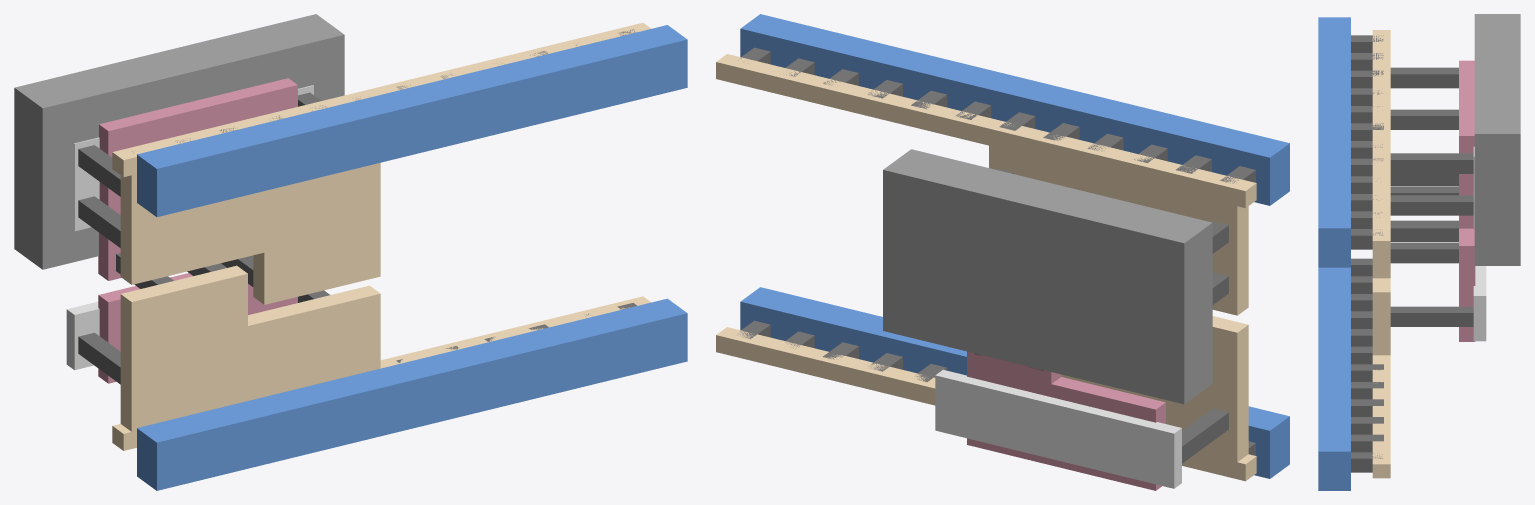
File: sky130_ef_sc_hd__fill_12.gds.gltf
3 views of the same model, side by side, from view 1: azimuth 30°, elevation 25°; view 2: azimuth 150°, elevation 25°; view 3: azimuth 270°, elevation 25° (orthographic). The views are drawn at different scales.
Parts seen in each view (by area): view 1: sky130_ef_sc_hd__fill_12_met1, sky130_ef_sc_hd__fill_12_li1, sky130_ef_sc_hd__fill_12_nwell, sky130_ef_sc_hd__fill_12_poly, sky130_ef_sc_hd__fill_12_licon, sky130_ef_sc_hd__fill_12_diff; view 2: sky130_ef_sc_hd__fill_12_nwell, sky130_ef_sc_hd__fill_12_li1, sky130_ef_sc_hd__fill_12_met1, sky130_ef_sc_hd__fill_12_diff, sky130_ef_sc_hd__fill_12_mcon, sky130_ef_sc_hd__fill_12_poly, sky130_ef_sc_hd__fill_12_licon; view 3: sky130_ef_sc_hd__fill_12_met1, sky130_ef_sc_hd__fill_12_licon, sky130_ef_sc_hd__fill_12_nwell, sky130_ef_sc_hd__fill_12_mcon, sky130_ef_sc_hd__fill_12_li1, sky130_ef_sc_hd__fill_12_poly, sky130_ef_sc_hd__fill_12_diff.
Boxes of the visible parts, x1,y1,x2,y2 form: sky130_ef_sc_hd__fill_12_met1: [137, 25, 687, 490]; sky130_ef_sc_hd__fill_12_li1: [112, 22, 651, 450]; sky130_ef_sc_hd__fill_12_nwell: [14, 14, 344, 269]; sky130_ef_sc_hd__fill_12_poly: [98, 78, 297, 383]; sky130_ef_sc_hd__fill_12_licon: [78, 92, 329, 384]; sky130_ef_sc_hd__fill_12_diff: [66, 85, 313, 370]; sky130_ef_sc_hd__fill_12_nwell: [883, 149, 1212, 404]; sky130_ef_sc_hd__fill_12_li1: [716, 54, 1256, 481]; sky130_ef_sc_hd__fill_12_met1: [740, 14, 1289, 478]; sky130_ef_sc_hd__fill_12_diff: [935, 369, 1181, 488]; sky130_ef_sc_hd__fill_12_mcon: [737, 47, 1255, 455]; sky130_ef_sc_hd__fill_12_poly: [967, 351, 1165, 490]; sky130_ef_sc_hd__fill_12_licon: [975, 169, 1228, 463]; sky130_ef_sc_hd__fill_12_met1: [1318, 17, 1350, 490]; sky130_ef_sc_hd__fill_12_licon: [1390, 67, 1473, 326]; sky130_ef_sc_hd__fill_12_nwell: [1474, 14, 1520, 265]; sky130_ef_sc_hd__fill_12_mcon: [1351, 35, 1383, 472]; sky130_ef_sc_hd__fill_12_li1: [1372, 30, 1390, 478]; sky130_ef_sc_hd__fill_12_poly: [1459, 60, 1475, 341]; sky130_ef_sc_hd__fill_12_diff: [1473, 146, 1486, 341].
Size of the model in its own units: 5.71 by 3.2 by 2.24.
